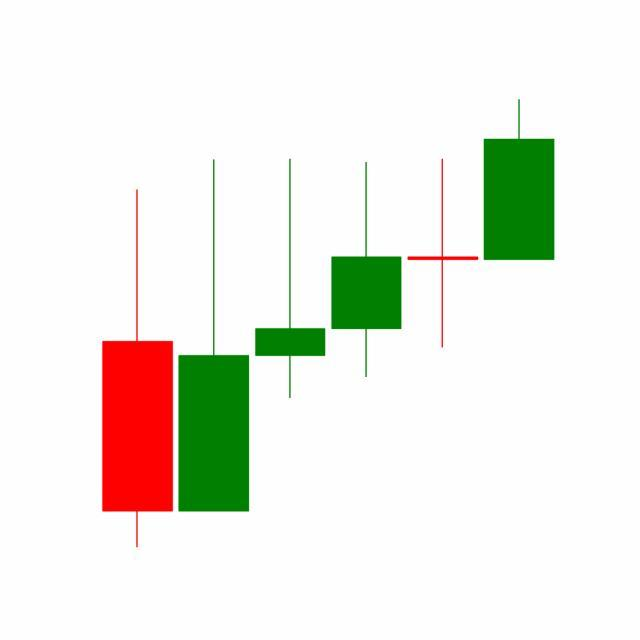Spinning Top: (404, 157, 482, 351)
